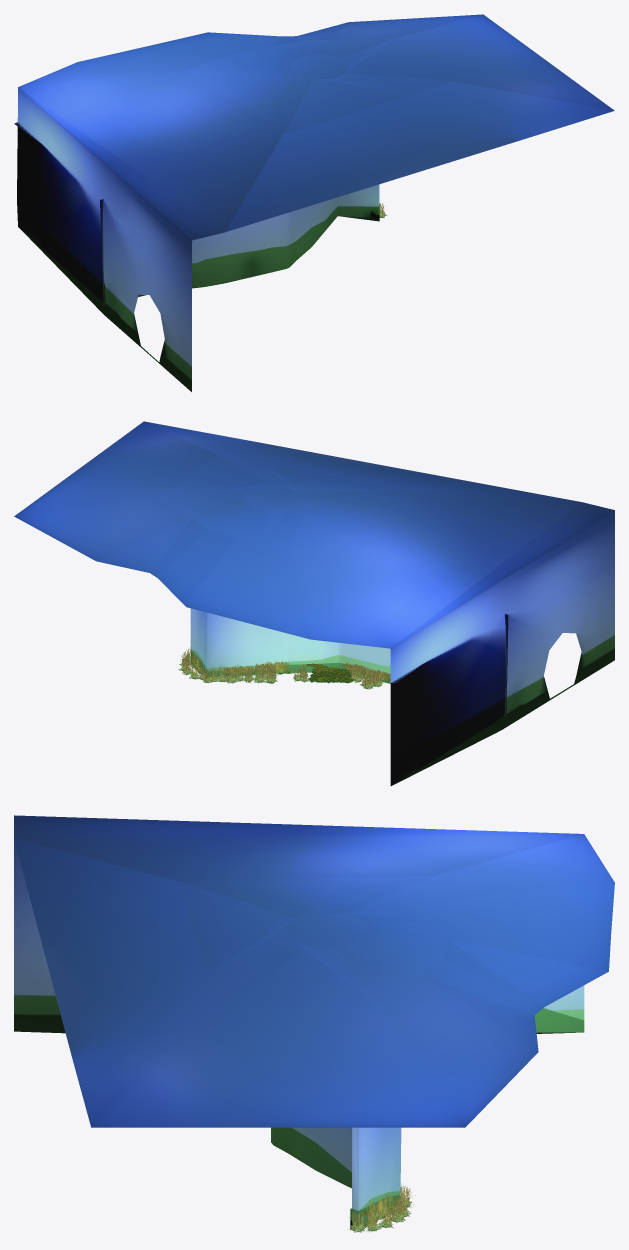
Rendered from scene34divider.glb.
3 renders of one model, top to bottom at view 1: azimuth 30°, elevation 25°; view 2: azimuth 150°, elevation 25°; view 3: azimuth 270°, elevation 25°, orthographic. The views are drawn at different scales.
Size of the model in its own units: 44.87 by 17.82 by 36.5.
6 materials, 6 textured.
